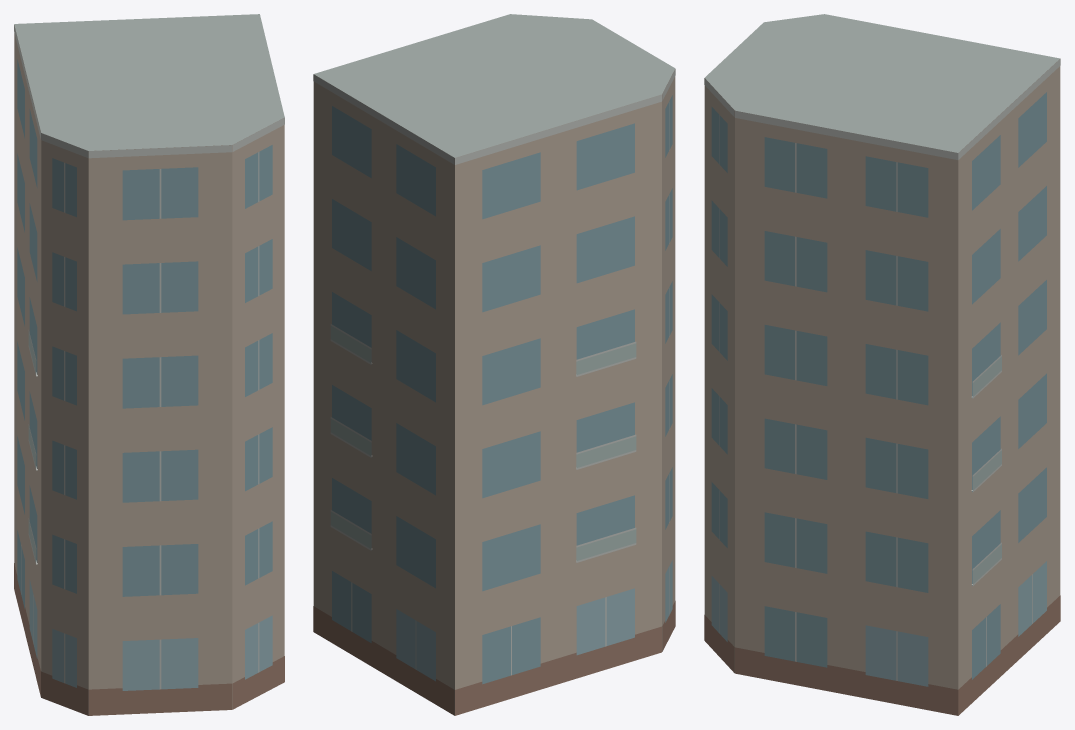
File: survey-upis-33006841.glb
The picture shows the model from 3 angles, left to right: view 1: azimuth 30°, elevation 25°; view 2: azimuth 150°, elevation 25°; view 3: azimuth 270°, elevation 25°; orthographic projection.
Visible parts, largest first — view 1: survey-upis-33006841.tmp; view 2: survey-upis-33006841.tmp; view 3: survey-upis-33006841.tmp.
Boxes of the visible parts, x1,y1,x2,y2 form: survey-upis-33006841.tmp: (14, 14, 284, 715); survey-upis-33006841.tmp: (313, 14, 675, 715); survey-upis-33006841.tmp: (704, 14, 1060, 715).
Size of the model in its own units: 10.07 by 19 by 10.9.
